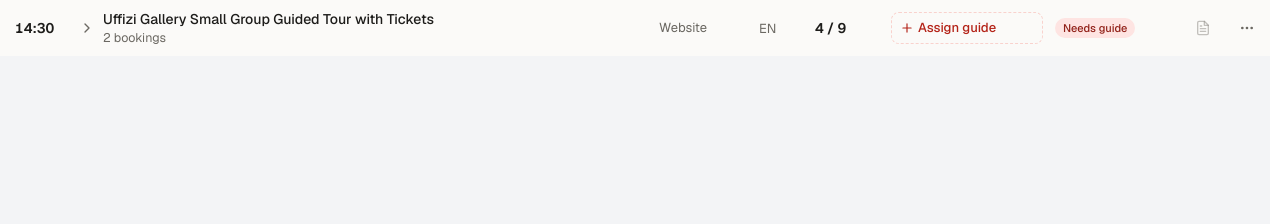
Scenario: group note inside the group row / card (step 6.13) › desktop: an empty group shows a faint note icon that opens the editor
The image size is (1270, 224).
Click the button named "add note for this group" at (1203, 28), box x1=1187 y1=12 x2=1219 y2=44
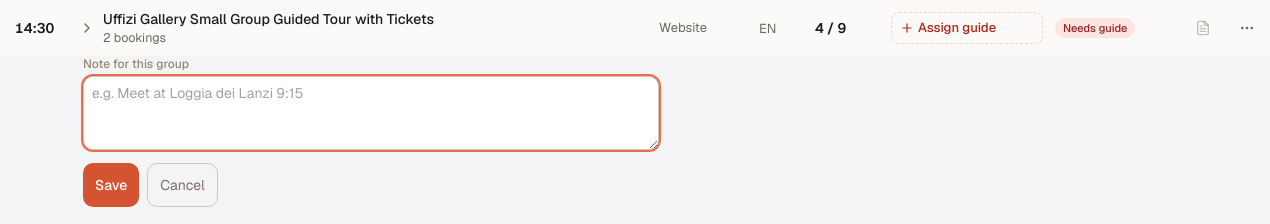
Expected: the text box labelled "Note for this group" is shown, x1=83 y1=76 x2=659 y2=150
